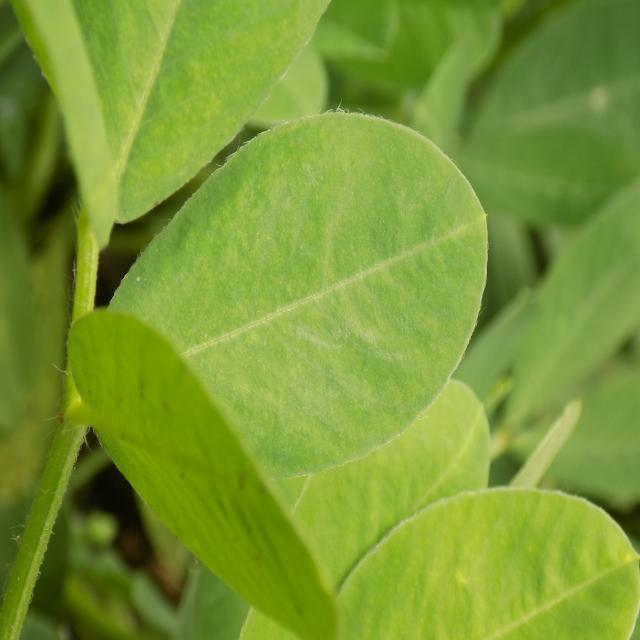Ground nut_healthy: (101, 105, 486, 470)
